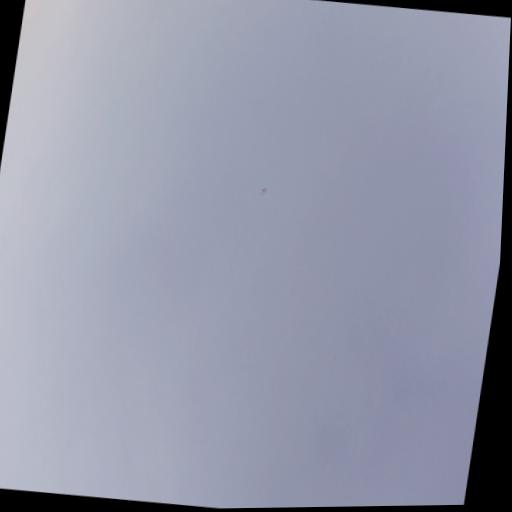drones: (257, 183, 271, 200)
